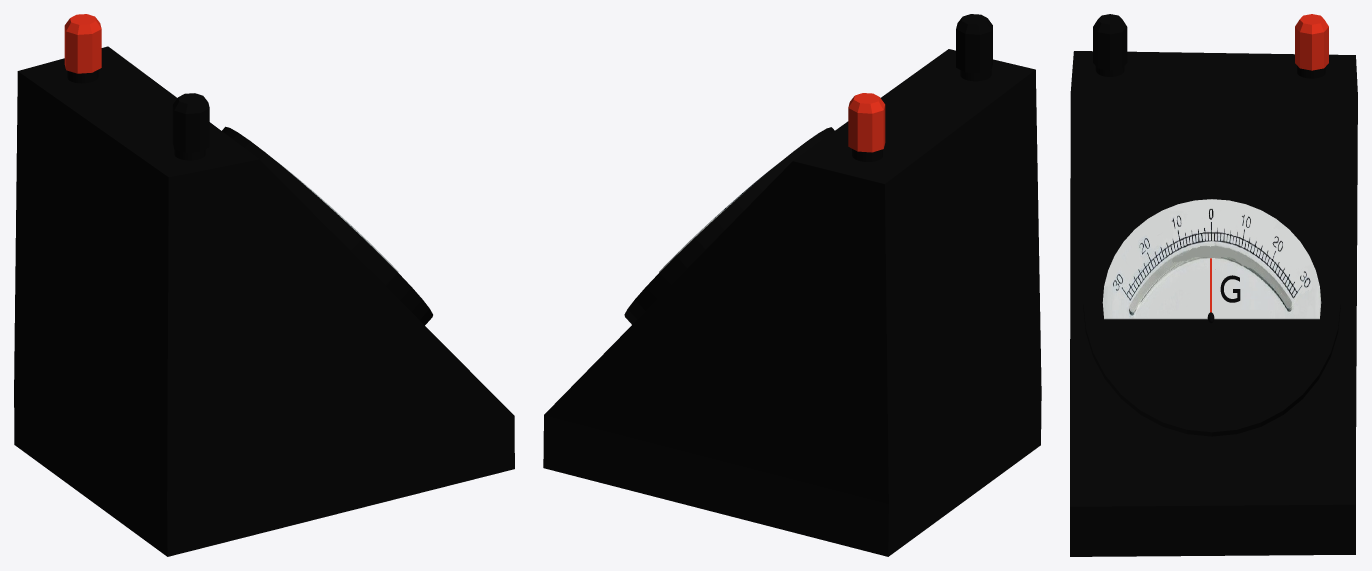
File: Galvanometer .fbx
3 views of the same model, side by side, from view 1: azimuth 30°, elevation 25°; view 2: azimuth 150°, elevation 25°; view 3: azimuth 270°, elevation 25° (orthographic). The views are drawn at different scales.
Parts seen in each view (by area): view 1: Cube, Cylinder.004, Cylinder.001, Cylinder; view 2: Cube, Cylinder.004, Cylinder.001, Cylinder; view 3: Cube, Cylinder.004, Cylinder.002, Cylinder, Cylinder.001.
Boxes of the visible parts, box(x1,y1,x2,y2) form: Cube: box(14, 46, 514, 556); Cylinder.004: box(222, 126, 432, 325); Cylinder.001: box(64, 14, 101, 73); Cylinder: box(172, 93, 209, 152); Cube: box(543, 49, 1041, 556); Cylinder.004: box(624, 127, 834, 324); Cylinder.001: box(848, 93, 885, 152); Cylinder: box(956, 14, 992, 73); Cube: box(1070, 51, 1357, 556); Cylinder.004: box(1083, 174, 1340, 436); Cylinder.002: box(1102, 199, 1321, 319); Cylinder: box(1093, 14, 1127, 70); Cylinder.001: box(1295, 14, 1328, 70).
Bounding box in the file's own units: 11.25 × 13.34 × 8.64.
